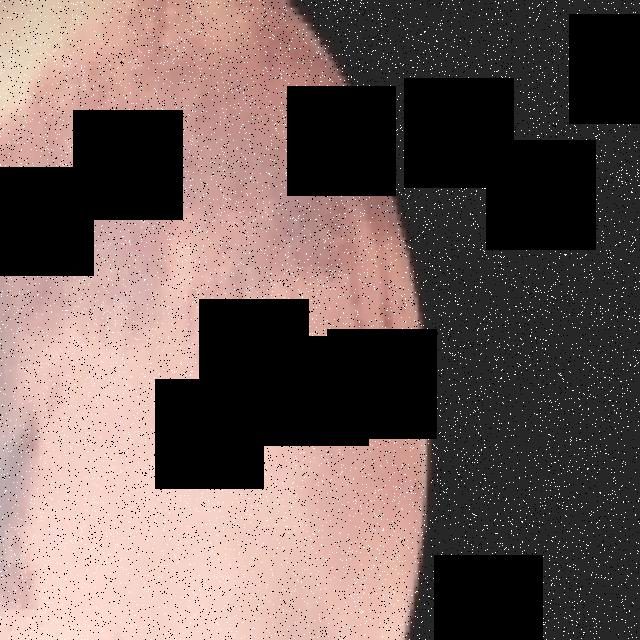Mars: (1, 0, 427, 640)
